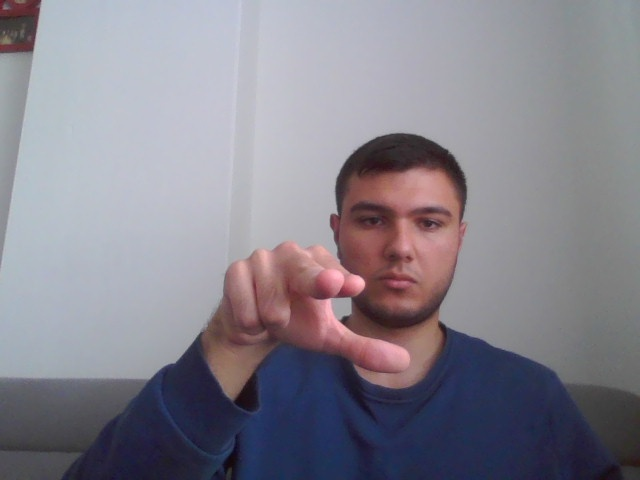no: (218, 242, 413, 374)
